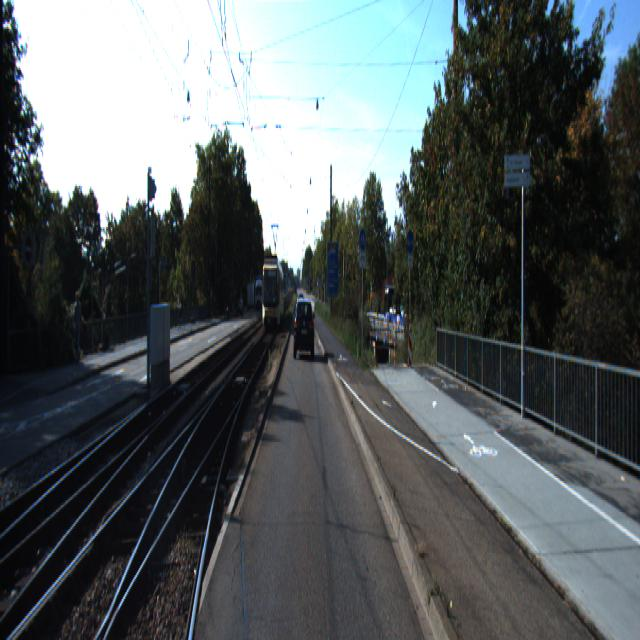Car: (382, 281, 428, 337), (261, 254, 285, 336), (295, 297, 314, 358)
